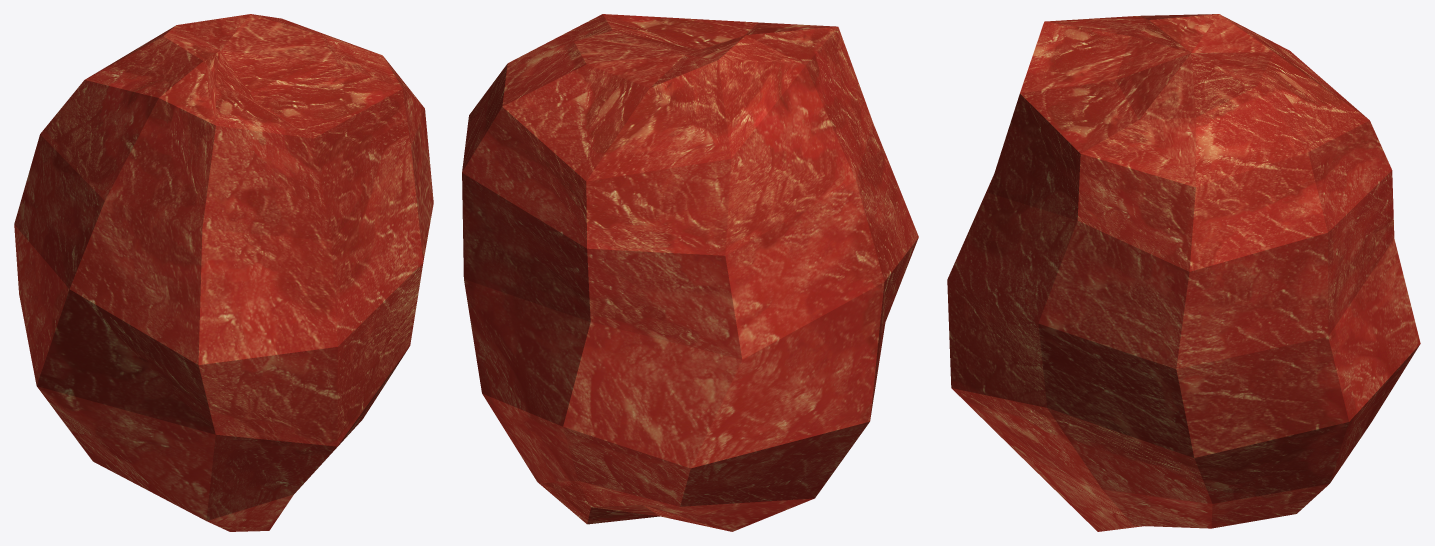
The model's file is Gib2.fbx.
The picture shows the model from 3 angles, left to right: view 1: azimuth 30°, elevation 25°; view 2: azimuth 150°, elevation 25°; view 3: azimuth 270°, elevation 25°; orthographic projection. The views are drawn at different scales.
Visible parts, largest first — view 1: Sphere; view 2: Sphere; view 3: Sphere.
Boxes of the visible parts, left/top/right/bottom form: Sphere: left=14, top=14, right=433, bottom=531; Sphere: left=462, top=14, right=918, bottom=531; Sphere: left=947, top=14, right=1420, bottom=531.
Bounding box in the file's own units: 28.48 × 33.12 × 28.63.
1 material, 1 textured.
